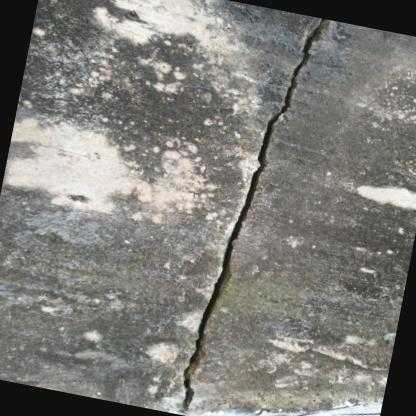crack: (177, 18, 328, 411)
